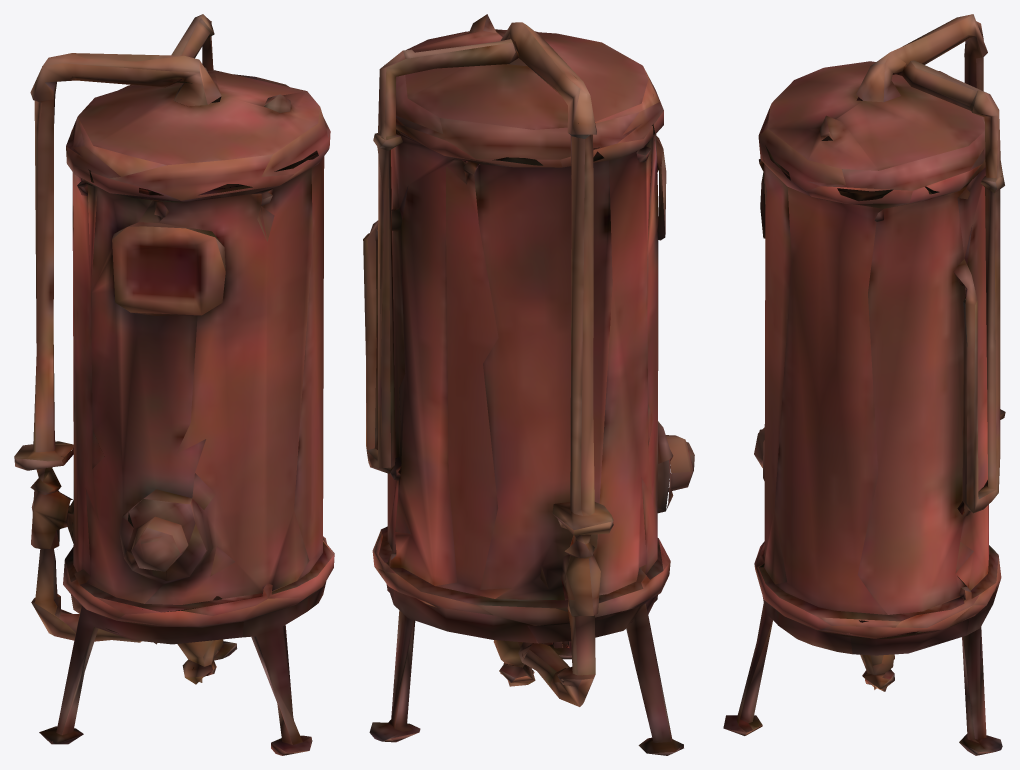
The model's file is calefon.movil.glb.
3 renders of one model, left to right at view 1: azimuth 30°, elevation 25°; view 2: azimuth 150°, elevation 25°; view 3: azimuth 270°, elevation 25°, orthographic. The views are drawn at different scales.
Parts seen in each view (by area): view 1: geometry_0; view 2: geometry_0; view 3: geometry_0.
Boxes of the visible parts, x1,y1,x2,y2 form: geometry_0: (14,14,334,755); geometry_0: (363,14,694,755); geometry_0: (723,14,1005,755).
Size of the model in its own units: 0.3975 by 0.9 by 0.35.
1 material, 1 textured.
